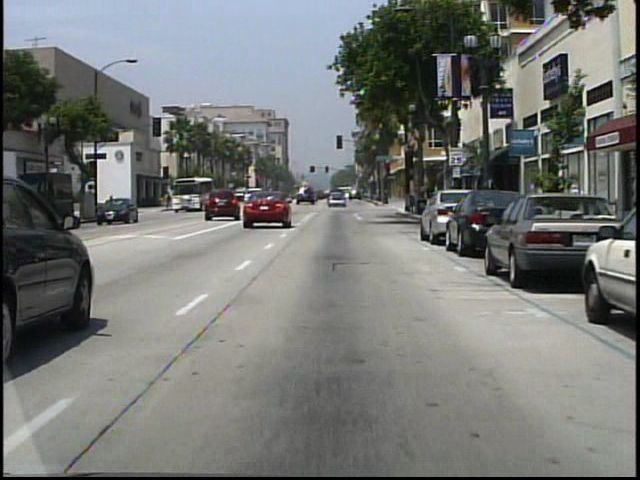person: (109, 193, 118, 216)
